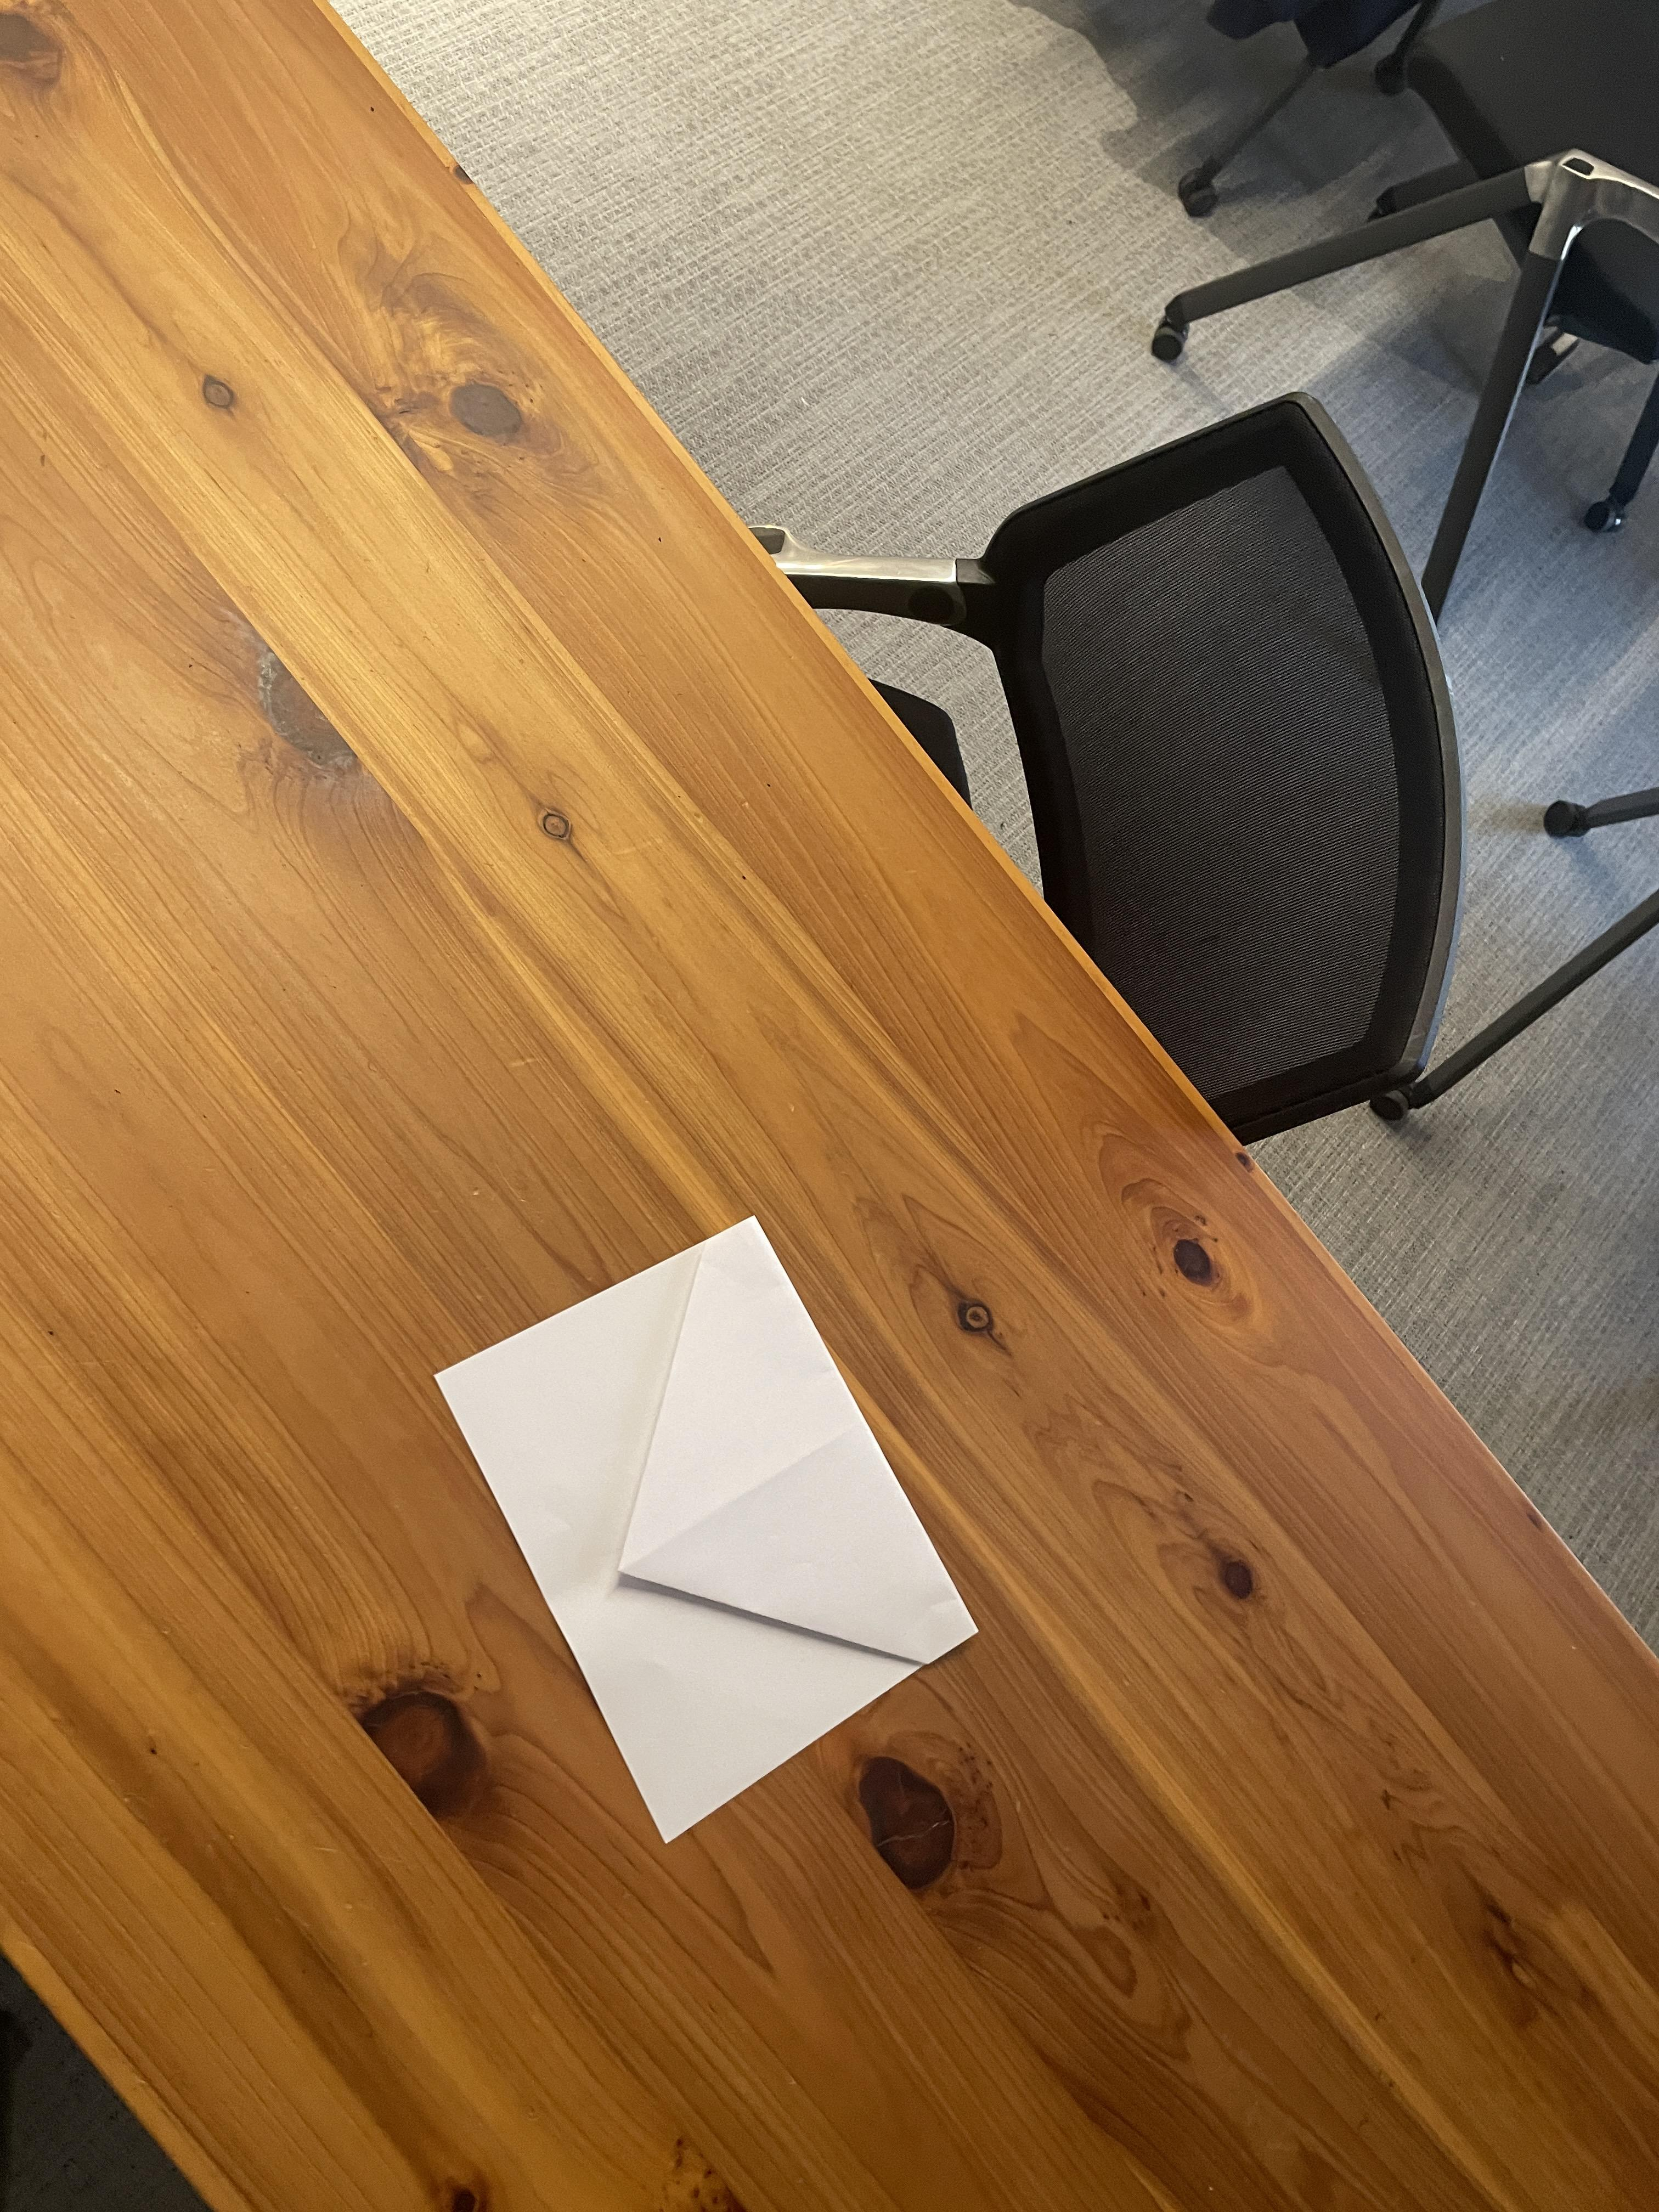shape_1: (373, 1104, 1021, 1963)
